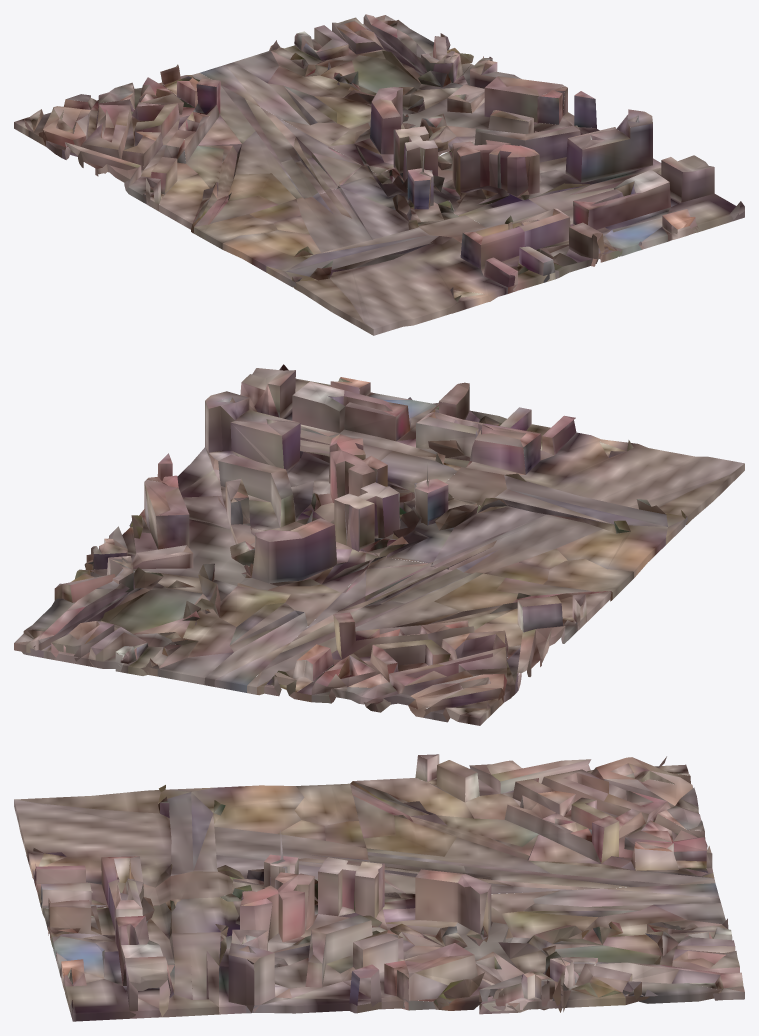
The picture shows the model from 3 angles, top to bottom: view 1: azimuth 30°, elevation 25°; view 2: azimuth 150°, elevation 25°; view 3: azimuth 270°, elevation 25°; orthographic projection. The views are drawn at different scales.
Parts seen in each view (by area): view 1: Mesh_0; view 2: Mesh_0; view 3: Mesh_0.
Part boxes in pixels (x1,y1,x2,y2): Mesh_0: [14, 14, 744, 335]; Mesh_0: [14, 364, 744, 725]; Mesh_0: [14, 754, 744, 1021].
Bounding box in the file's own units: 533 × 82.07 × 659.
2 materials, 2 textured.
